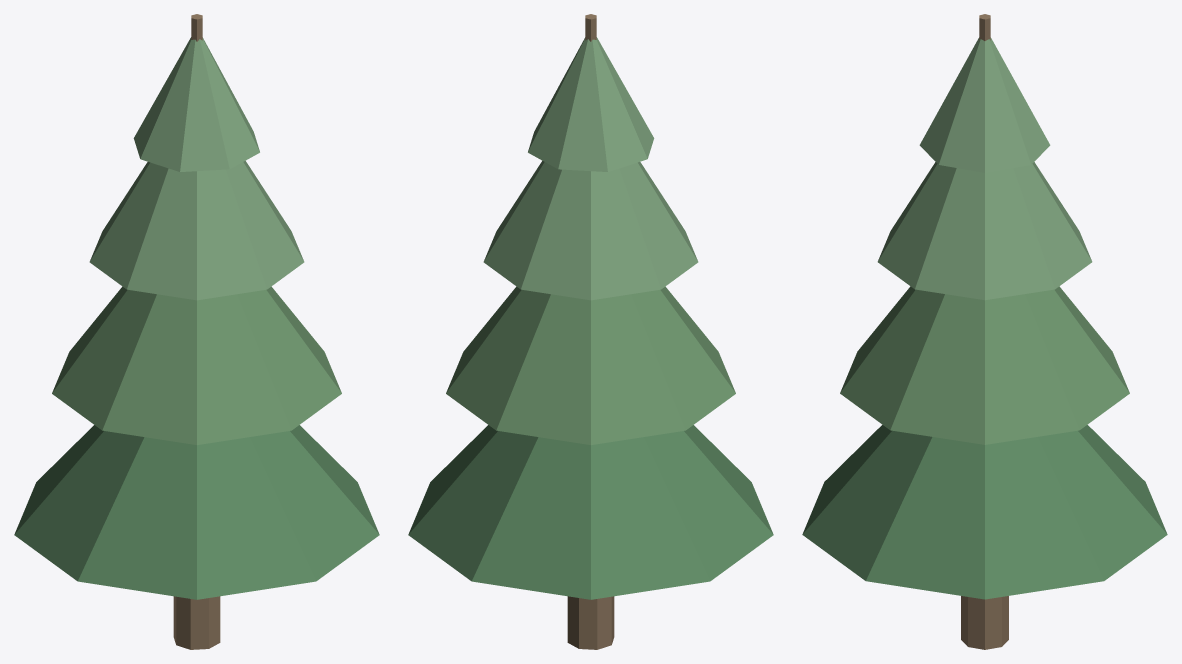
The model's file is tree_conifer.glb.
3 renders of one model, left to right at view 1: azimuth 30°, elevation 25°; view 2: azimuth 150°, elevation 25°; view 3: azimuth 270°, elevation 25°, orthographic.
Parts seen in each view (by area): view 1: Mesh; view 2: Mesh; view 3: Mesh.
Part boxes in pixels (x1=…): Mesh: x1=14, y1=14, x2=379, y2=649; Mesh: x1=408, y1=14, x2=773, y2=649; Mesh: x1=802, y1=14, x2=1167, y2=649.
Size of the model in its own units: 3.3 by 6.3 by 3.35.
